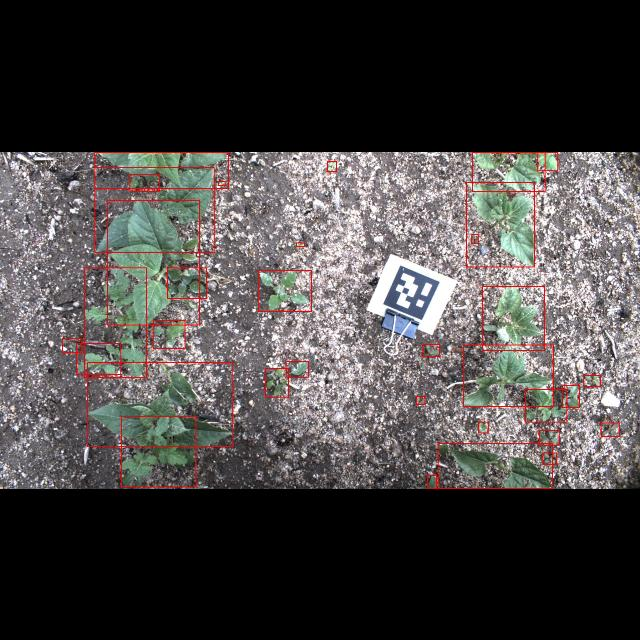crop: (88, 362, 232, 446), (108, 200, 200, 324), (94, 166, 214, 252), (466, 182, 534, 266), (463, 344, 553, 406), (438, 444, 552, 488), (95, 151, 229, 187), (482, 286, 544, 350), (472, 151, 544, 191), (428, 476, 437, 488)
weed: (84, 267, 146, 377), (122, 416, 196, 486), (258, 270, 312, 310), (525, 388, 567, 422), (77, 342, 121, 373), (167, 266, 207, 298), (153, 320, 185, 348), (266, 368, 288, 397), (130, 173, 160, 190), (562, 385, 580, 407), (538, 152, 558, 170), (286, 361, 308, 377), (539, 430, 559, 444), (600, 422, 620, 436), (62, 338, 82, 352), (422, 344, 440, 356), (584, 376, 600, 386), (543, 452, 557, 463), (478, 422, 488, 432), (327, 161, 337, 171), (416, 396, 426, 404), (472, 234, 478, 242), (296, 242, 304, 246), (218, 180, 225, 184)
